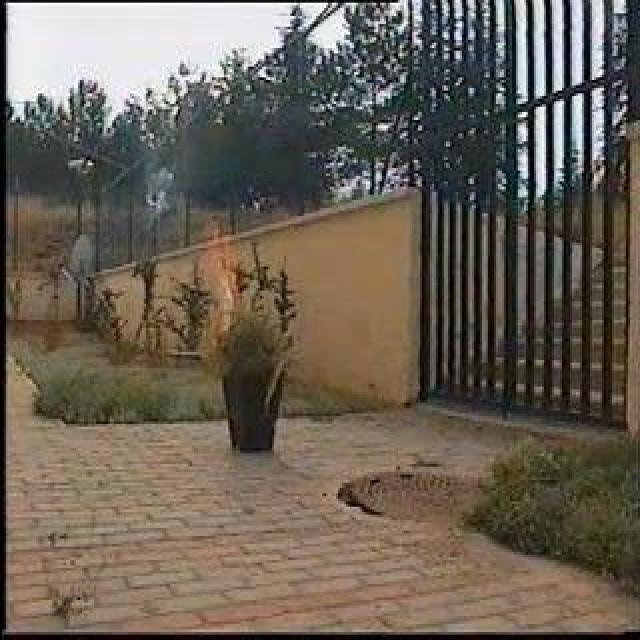fire: (207, 220, 241, 332)
